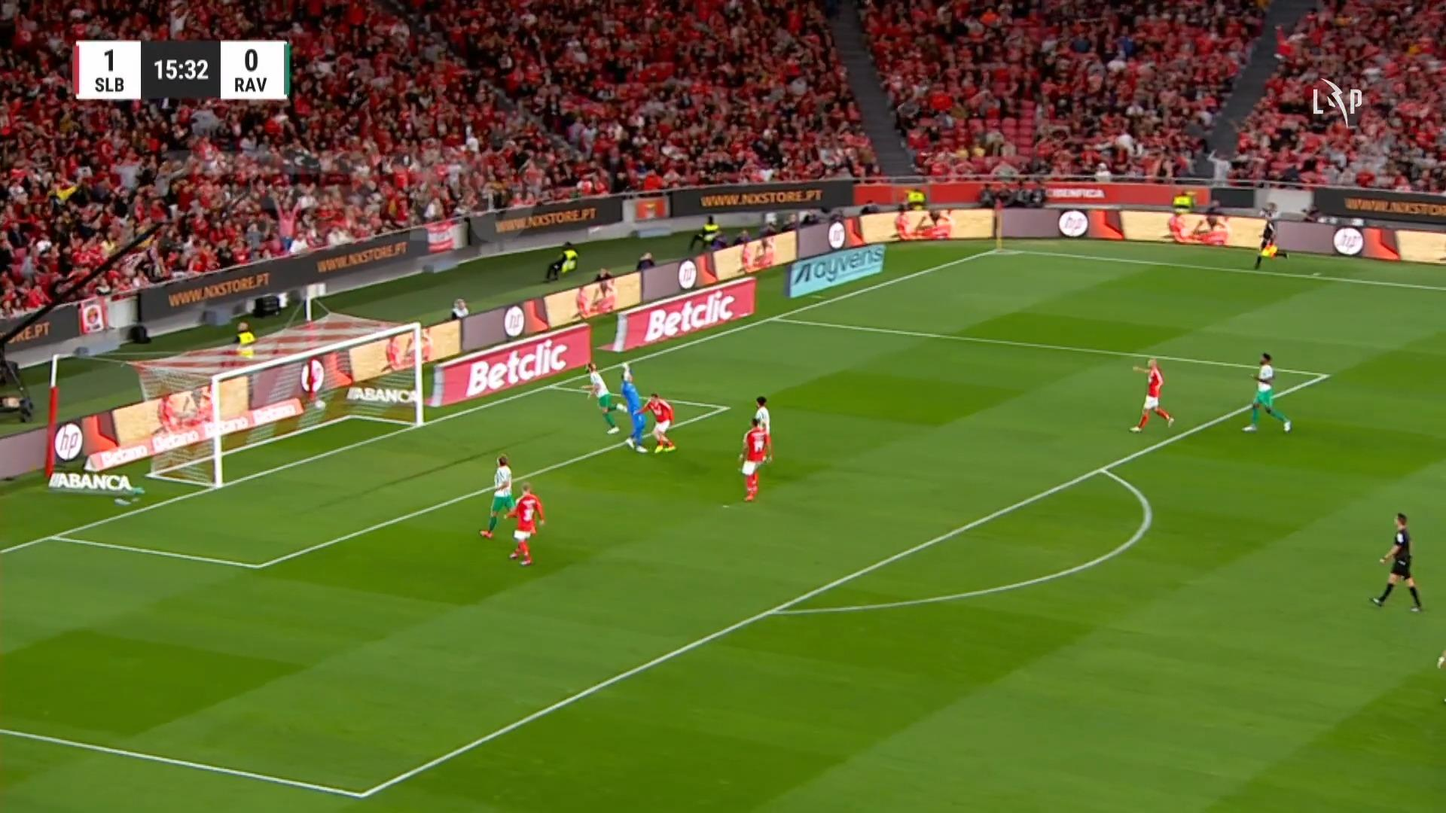goalkeeper: (618, 364, 649, 452)
player: (1241, 352, 1292, 433), (1128, 356, 1174, 433), (503, 482, 545, 566), (581, 361, 623, 434), (479, 454, 514, 538), (737, 415, 770, 501), (633, 391, 676, 453), (752, 394, 773, 462)
referee: (1368, 511, 1423, 612), (1253, 201, 1287, 269)
